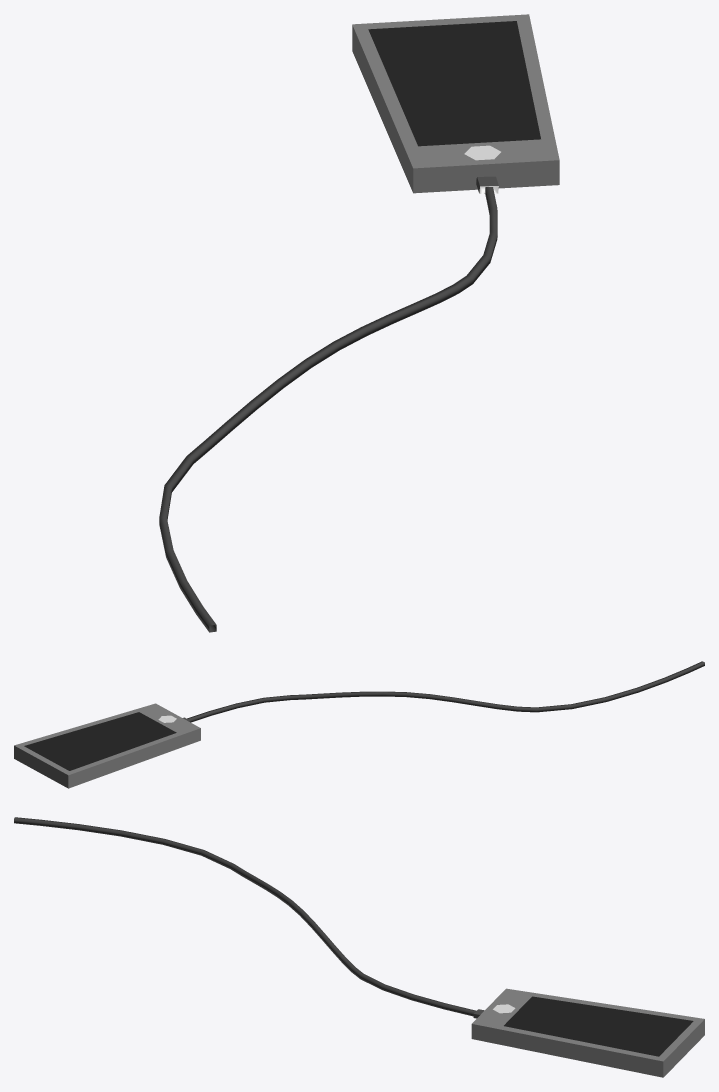
Rendered from Celular e Carregador.fbx.
The picture shows the model from 3 angles, top to bottom: view 1: azimuth 30°, elevation 25°; view 2: azimuth 150°, elevation 25°; view 3: azimuth 270°, elevation 25°; orthographic projection. The views are drawn at different scales.
Parts seen in each view (by area): view 1: Cube.005, BezierCurve; view 2: Cube.005, BezierCurve; view 3: Cube.005, BezierCurve.
Boxes of the visible parts, box(x1,y1,x2,y2) form: Cube.005: box(352, 14, 559, 193); BezierCurve: box(159, 176, 498, 632); Cube.005: box(14, 703, 200, 788); BezierCurve: box(183, 661, 704, 722); Cube.005: box(471, 988, 704, 1077); BezierCurve: box(14, 817, 484, 1018).
Bounding box in the file's own units: 183 × 7.07 × 211.
1 material, 1 textured.
